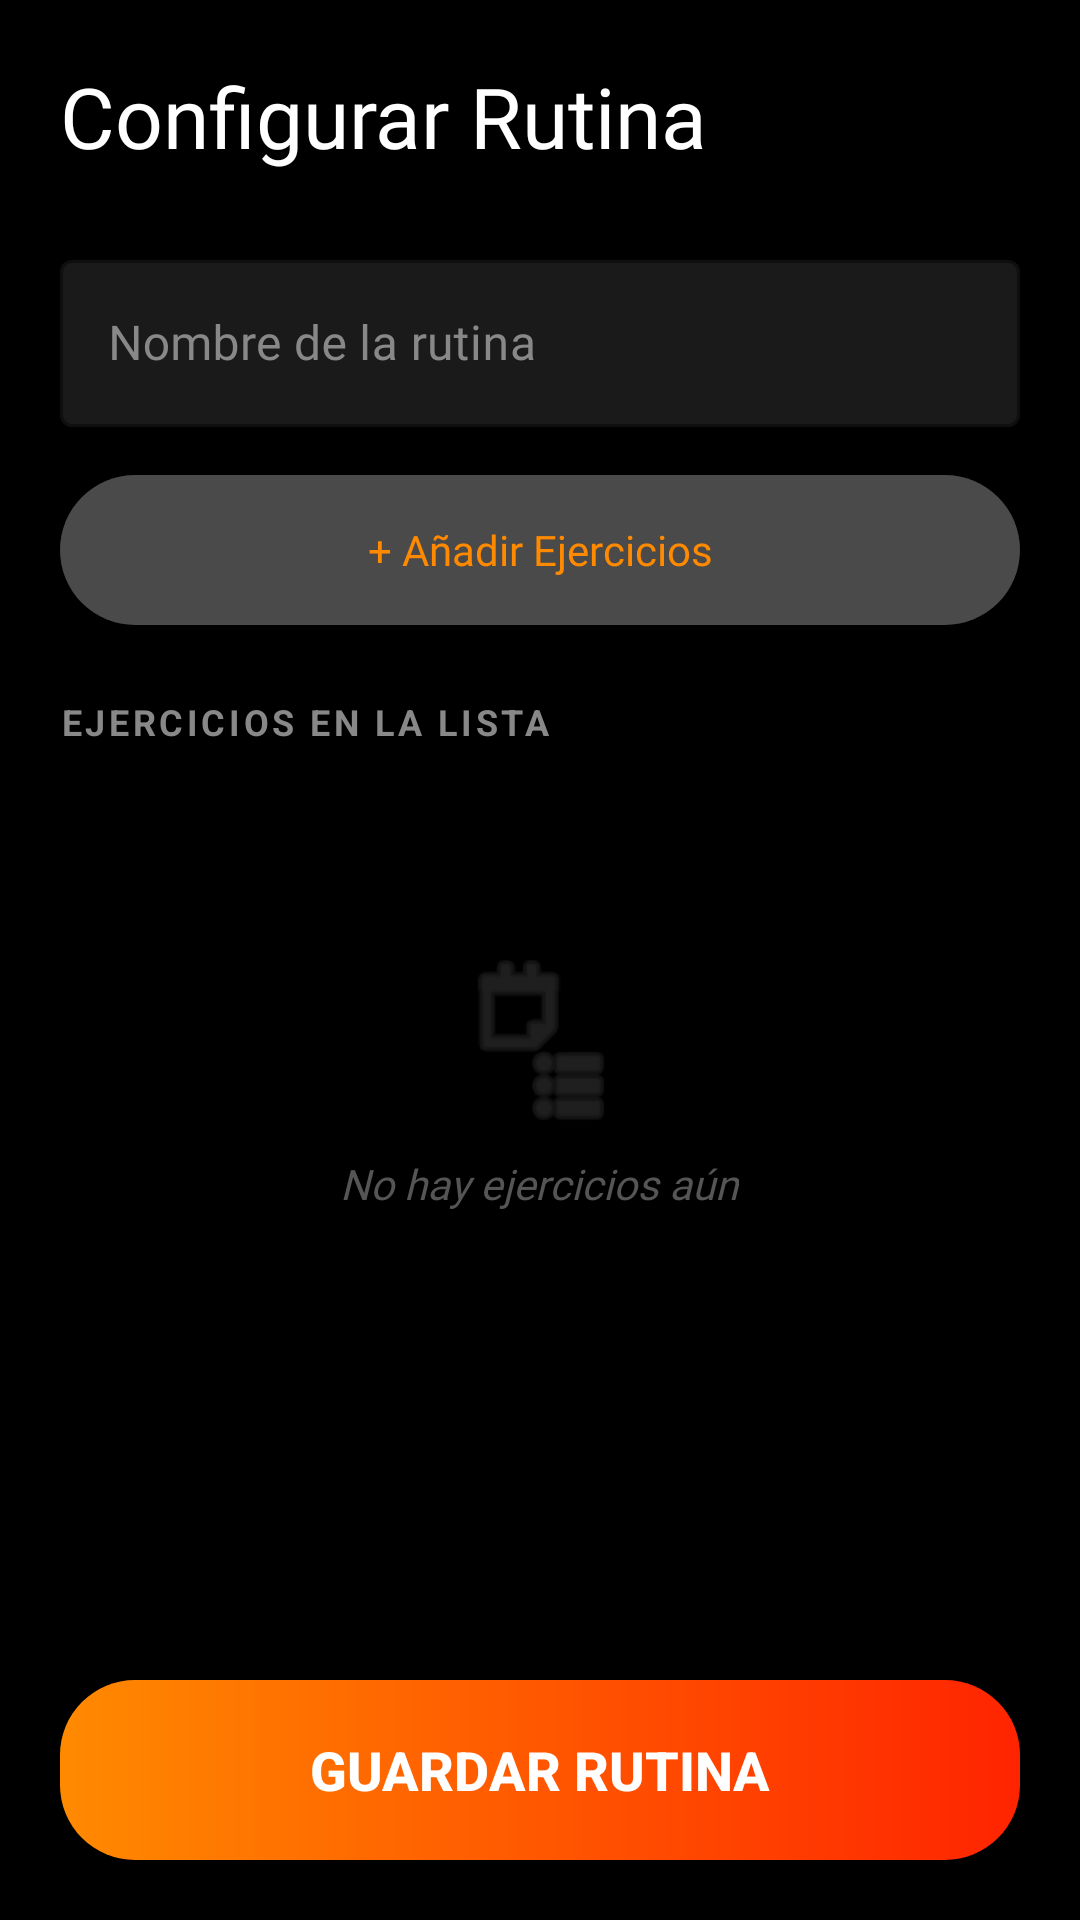

Locate icon controls on the screen. Image size 1080*1920, boxes as {"x1": x1, "y1": y1, "x2": x2, "y2": y2}.
agenda: {"x1": 482, "y1": 964, "x2": 600, "y2": 1116}
